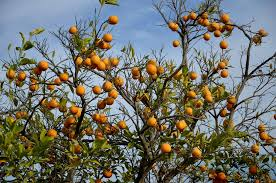orange: (147, 62, 157, 75), (219, 39, 228, 50), (91, 54, 100, 64)
